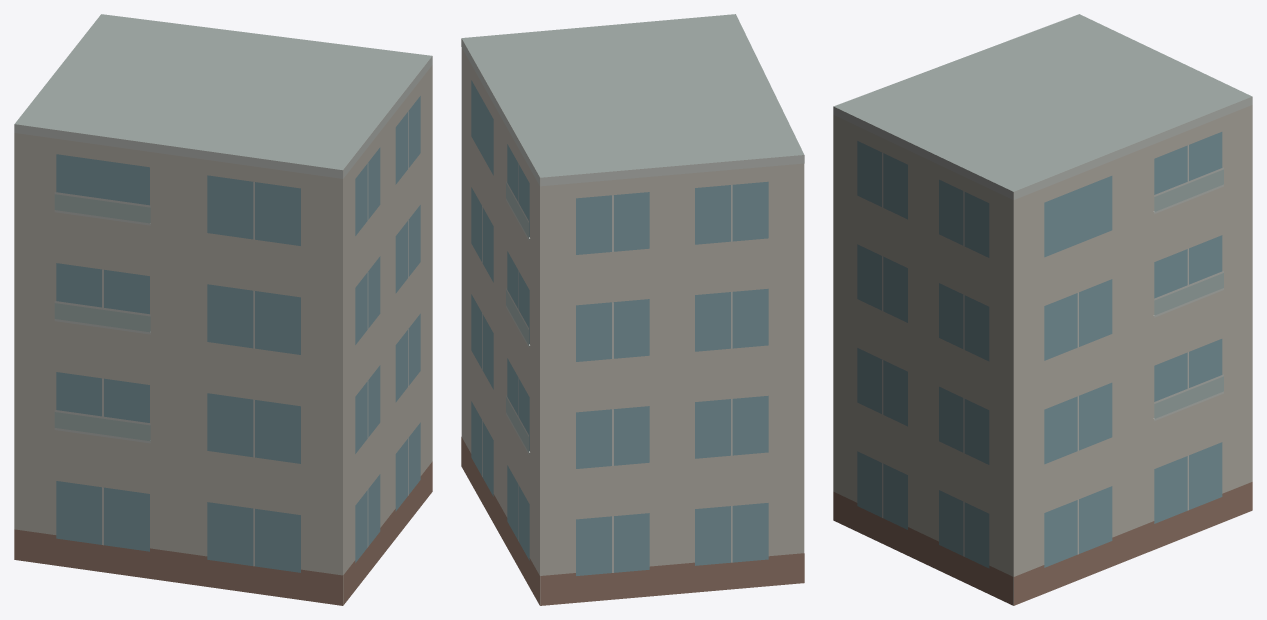
Rendered from survey-upis-32914707.glb.
3 views of the same model, side by side, from view 1: azimuth 30°, elevation 25°; view 2: azimuth 150°, elevation 25°; view 3: azimuth 270°, elevation 25° (orthographic). The views are drawn at different scales.
Parts seen in each view (by area): view 1: survey-upis-32914707.tmp; view 2: survey-upis-32914707.tmp; view 3: survey-upis-32914707.tmp.
Part boxes in pixels (bbox=[...]): survey-upis-32914707.tmp: bbox=[14, 14, 432, 605]; survey-upis-32914707.tmp: bbox=[461, 14, 804, 605]; survey-upis-32914707.tmp: bbox=[833, 14, 1252, 605].
Size of the model in its own units: 11.19 by 12.14 by 11.15.
